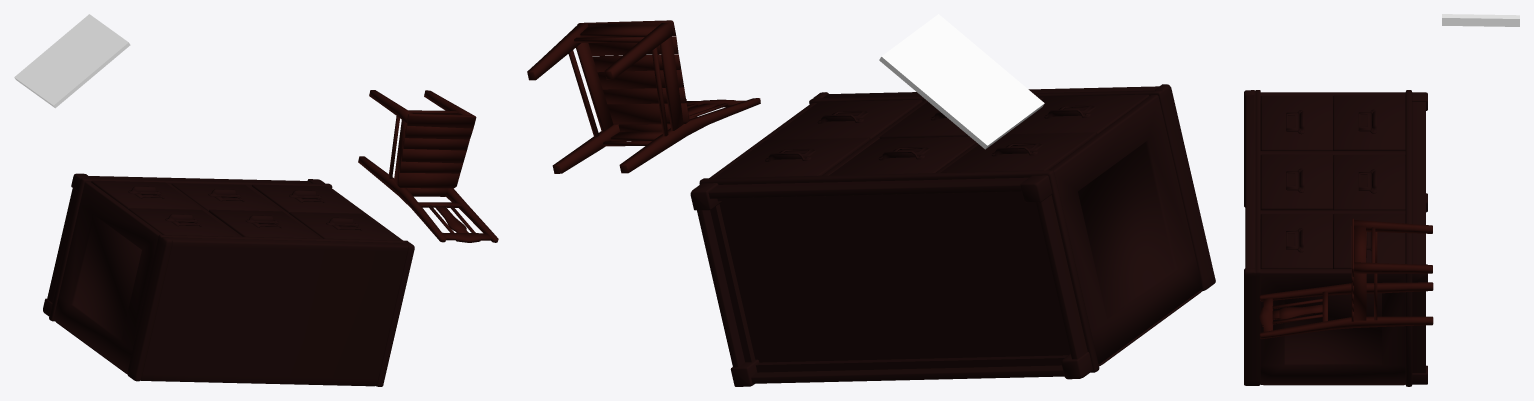
The picture shows the model from 3 angles, left to right: view 1: azimuth 30°, elevation 25°; view 2: azimuth 150°, elevation 25°; view 3: azimuth 270°, elevation 25°; orthographic projection. The views are drawn at different scales.
Parts seen in each view (by area): view 1: diffuse_cabinet_01, diffuse_chair_02, glass_partition_01; view 2: diffuse_cabinet_01, diffuse_chair_02, glass_partition_01; view 3: diffuse_cabinet_01, diffuse_chair_02, glass_partition_01.
Part boxes in pixels (<box>): diffuse_cabinet_01: <box>43,173,414,386</box>; diffuse_chair_02: <box>358,90,498,242</box>; glass_partition_01: <box>14,14,130,108</box>; diffuse_cabinet_01: <box>690,84,1215,386</box>; diffuse_chair_02: <box>527,20,760,173</box>; glass_partition_01: <box>879,14,1044,149</box>; diffuse_cabinet_01: <box>1244,90,1427,386</box>; diffuse_chair_02: <box>1259,218,1433,339</box>; glass_partition_01: <box>1442,14,1519,26</box>.
Size of the model in its own units: 229 by 170 by 142.
